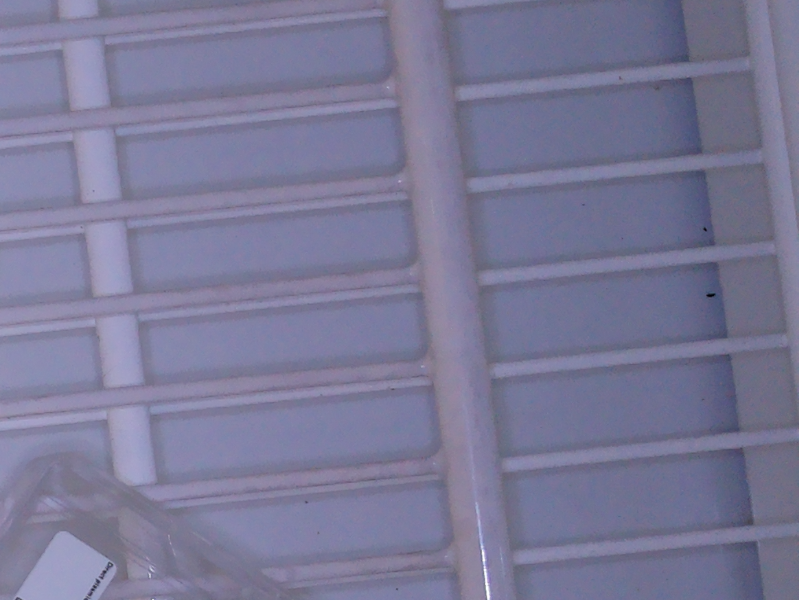plate: (1, 451, 300, 600)
